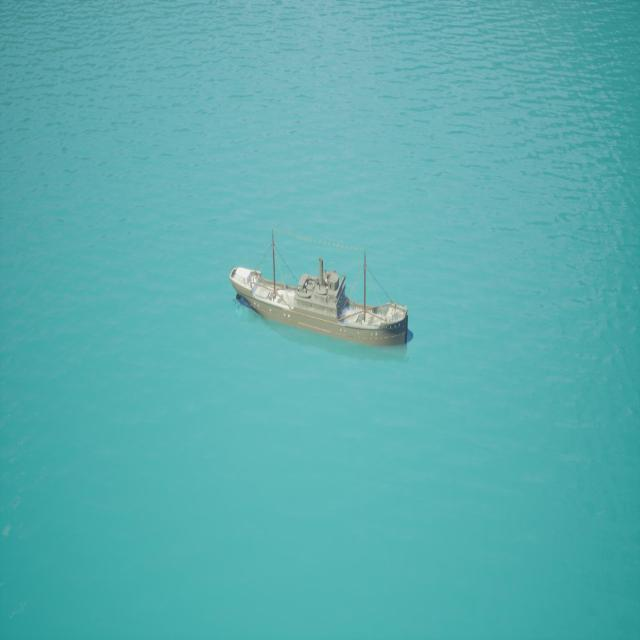fishing ship: (230, 232, 412, 354)
